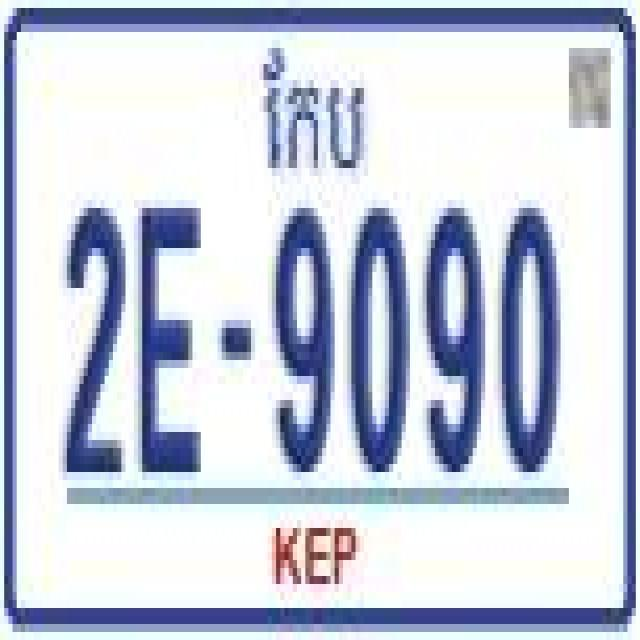Kep: (255, 40, 373, 186)
